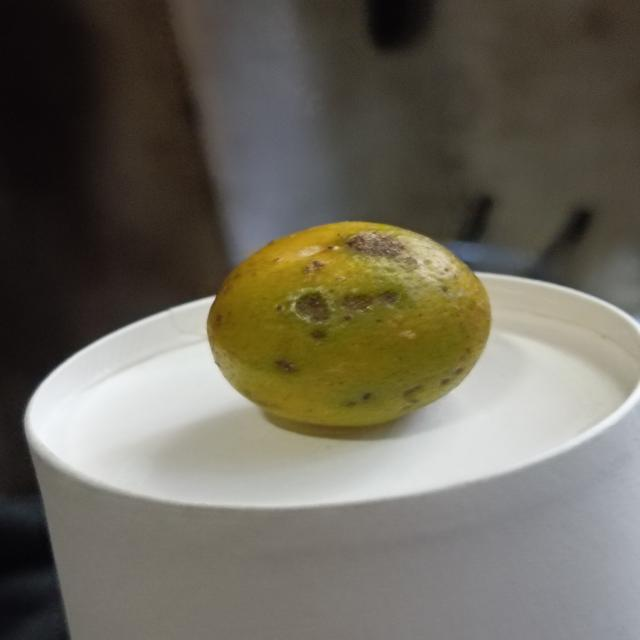black spot: (207, 214, 497, 429)
